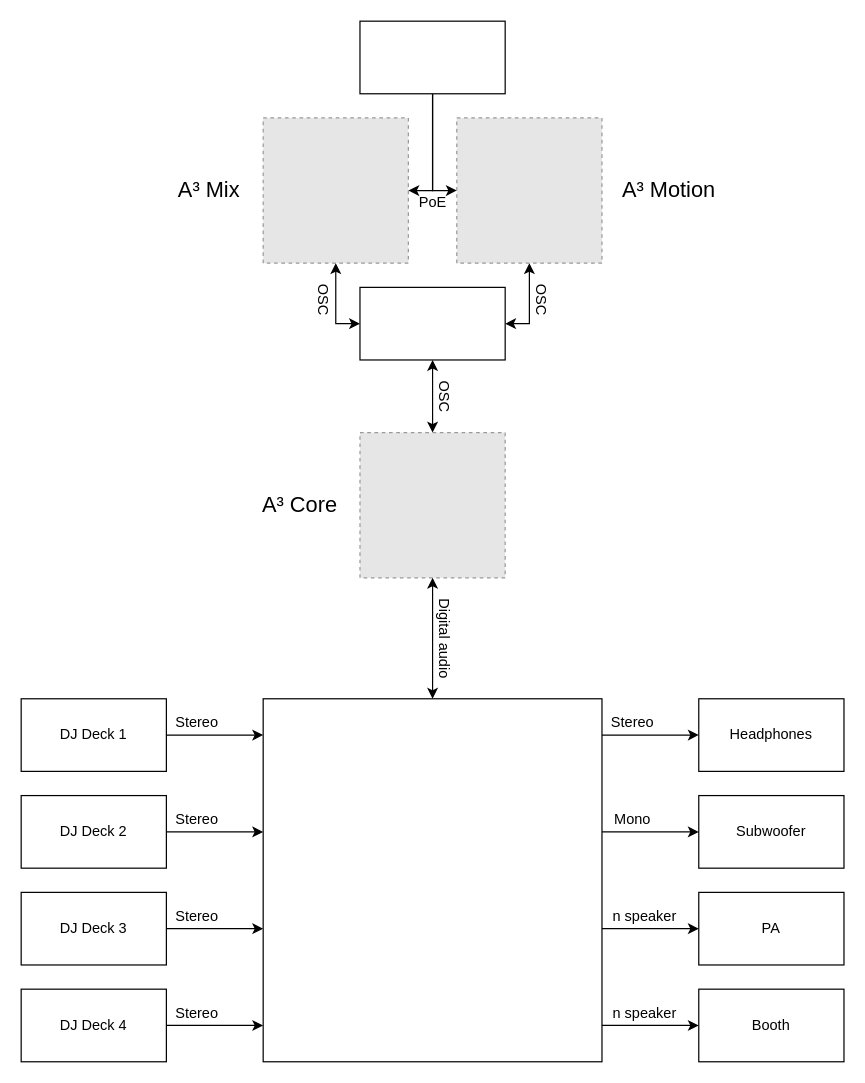
Some shapes in this 865 by 1083 pixel diagram are drawn without their labels. Grey dashed boxes stand in for pictures. Here are the shapes that lost their labels. From the top down, the centre of each, then its label:
(432,57): PoE injector
(432,323): Ethernet switch
(432,880): Audiohardware 8 in n out
